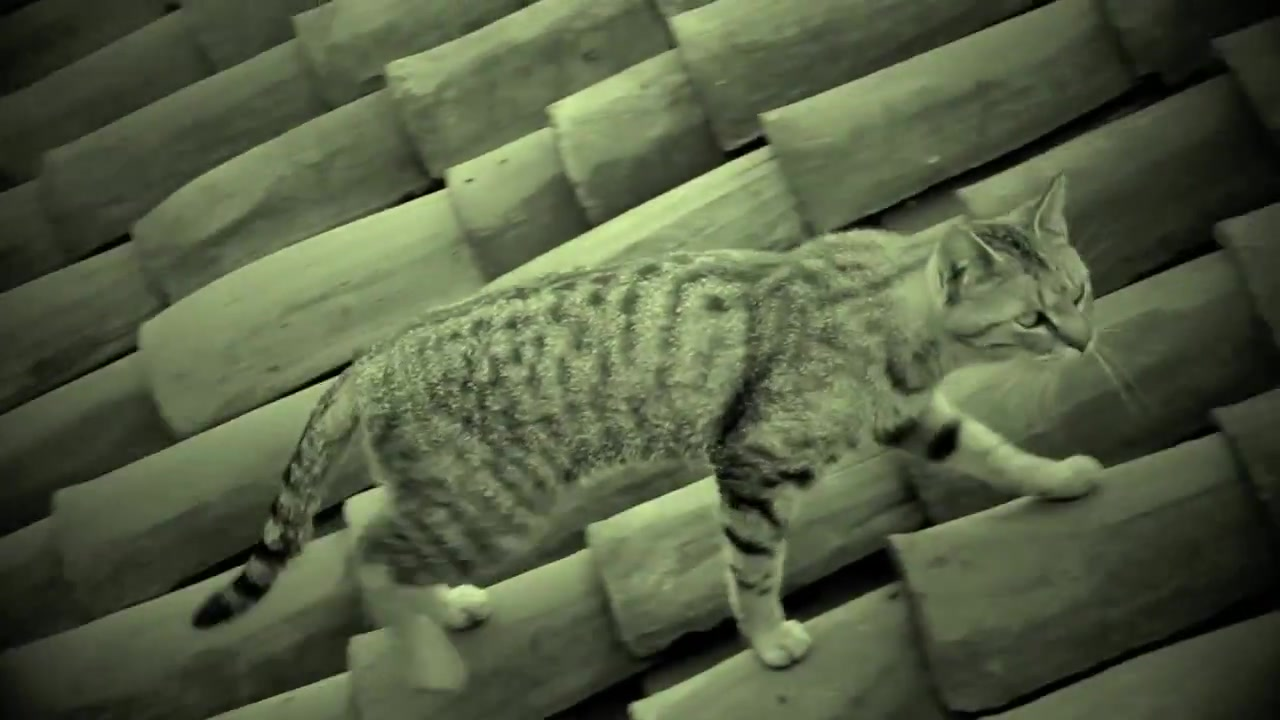cat: (189, 169, 1121, 670)
